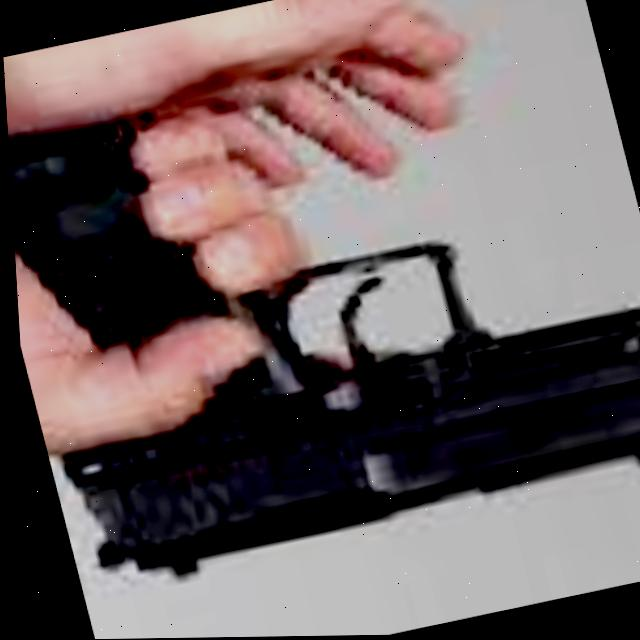pistol: (1, 13, 640, 607), (6, 119, 640, 572)
